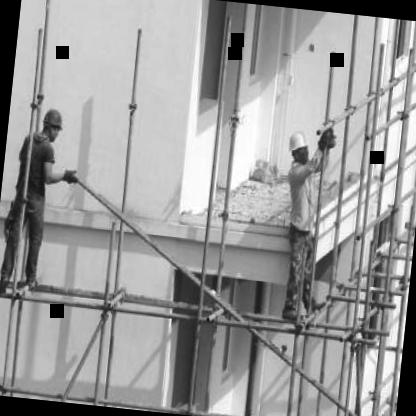helmet: (284, 126, 315, 168), (38, 106, 66, 142)
